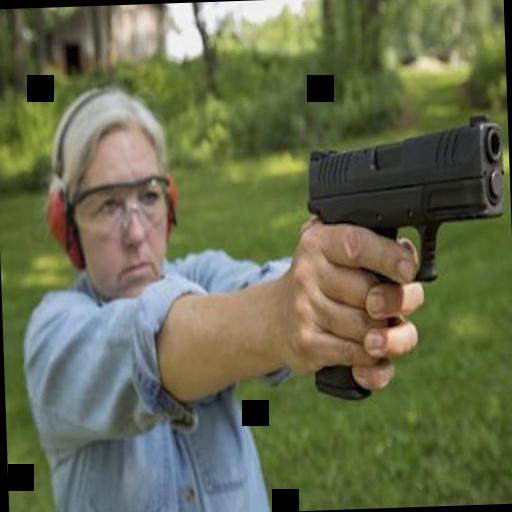Handgun: (296, 114, 510, 394)
